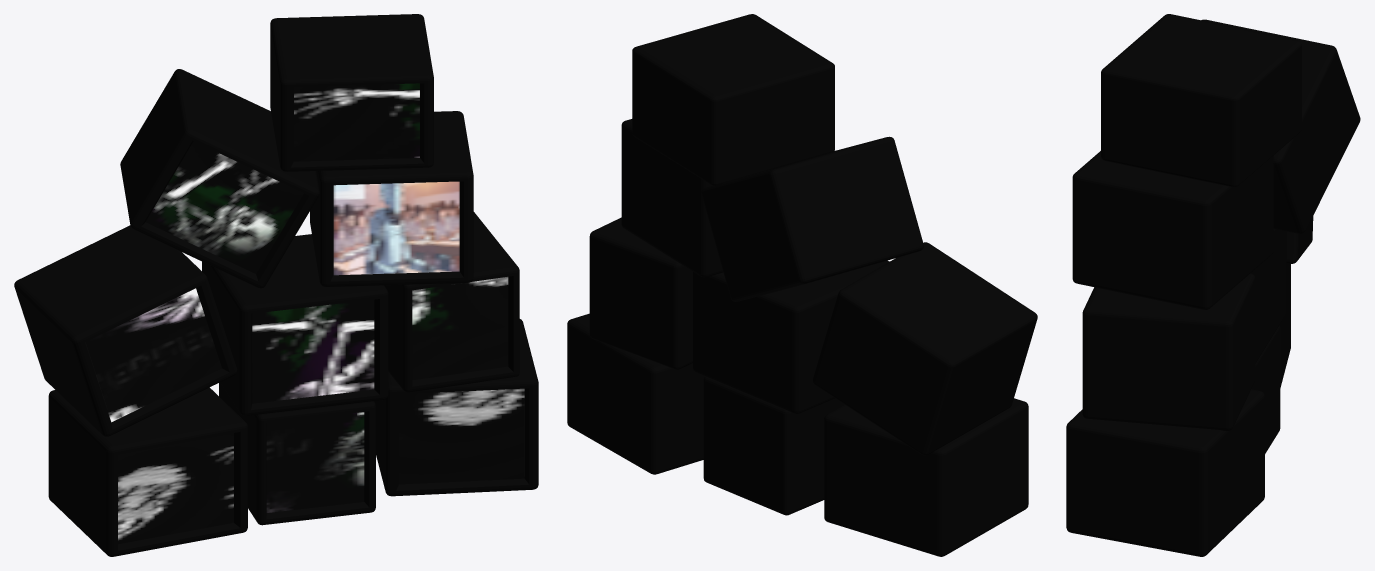
The model's file is monitors.glb.
3 renders of one model, left to right at view 1: azimuth 30°, elevation 25°; view 2: azimuth 150°, elevation 25°; view 3: azimuth 270°, elevation 25°, orthographic. The views are drawn at different scales.
Parts seen in each view (by area): view 1: Monitors_Baked; view 2: Monitors_Baked; view 3: Monitors_Baked.
Boxes of the visible parts, x1,y1,x2,y2 form: Monitors_Baked: (14,14,538,556); Monitors_Baked: (567,14,1037,556); Monitors_Baked: (1066,14,1360,556).
Bounding box in the file's own units: 1.38 × 1.2 × 0.7541.
Materials: 2 (1 with a texture image).
